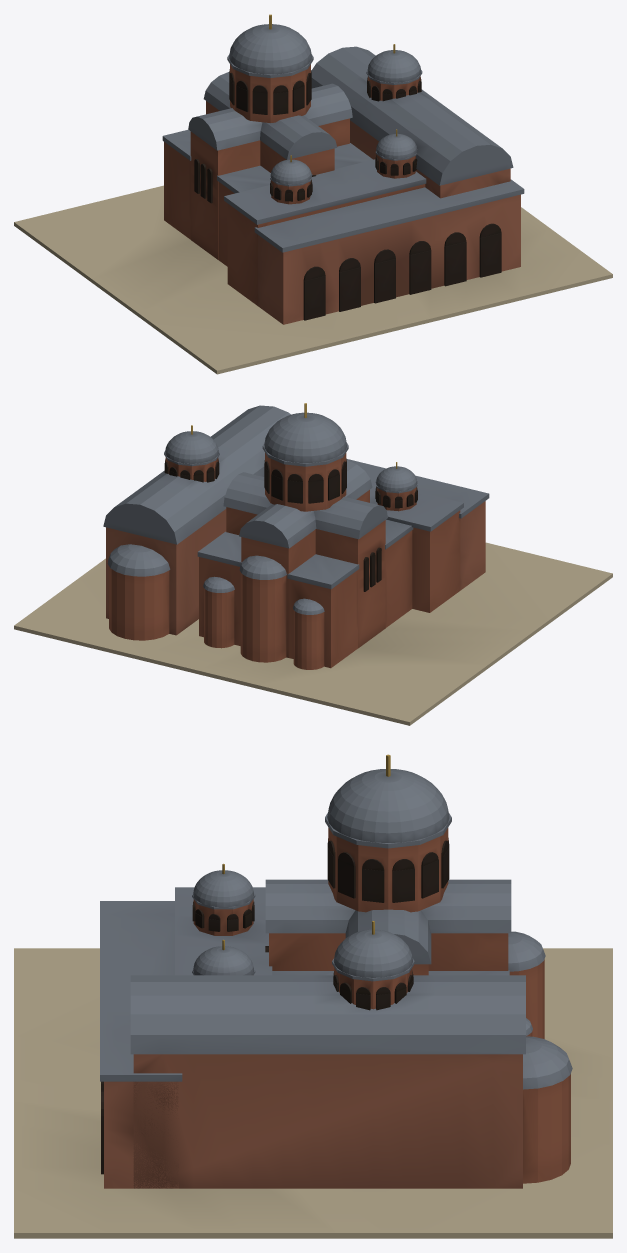
File: chora-1453.glb
3 views of the same model, one above another, from view 1: azimuth 30°, elevation 25°; view 2: azimuth 150°, elevation 25°; view 3: azimuth 270°, elevation 25° (orthographic). The views are drawn at different scales.
Visible parts, largest first — view 1: p2_Metochites, p0_church, p1_naos; view 2: p1_naos, p0_church, p2_Metochites; view 3: p2_Metochites, p0_church, p1_naos.
Boxes of the visible parts, x1=… form: p2_Metochites: x1=254, y1=44, x2=524, y2=324; p0_church: x1=14, y1=185, x2=612, y2=374; p1_naos: x1=162, y1=14, x2=426, y2=305; p1_naos: x1=197, y1=403, x2=463, y2=669; p0_church: x1=14, y1=542, x2=612, y2=725; p2_Metochites: x1=103, y1=405, x2=489, y2=640; p2_Metochites: x1=100, y1=863, x2=572, y2=1188; p0_church: x1=14, y1=948, x2=612, y2=1238; p1_naos: x1=175, y1=754, x2=545, y2=1038.
Bounding box in the file's own units: 45 × 24.17 × 40.
